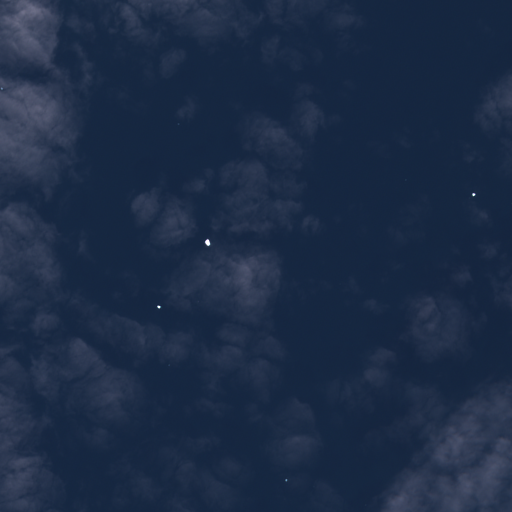Iceberg: (204, 238, 210, 246), (472, 193, 475, 196), (157, 305, 160, 308), (285, 479, 287, 481), (1, 87, 2, 89), (178, 123, 179, 124)
